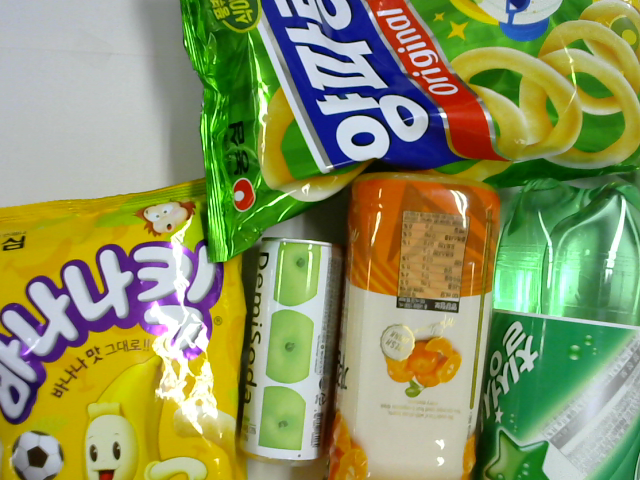Banana_Kick: (3, 178, 241, 480)
Chilseong_Cider_1.5L: (463, 190, 640, 473)
Demisoda_Apple_Can_250ml: (241, 242, 339, 462)
Jeju_Tangerine_1.5L: (343, 170, 495, 480)
Oninon_Ring: (177, 4, 640, 254)
